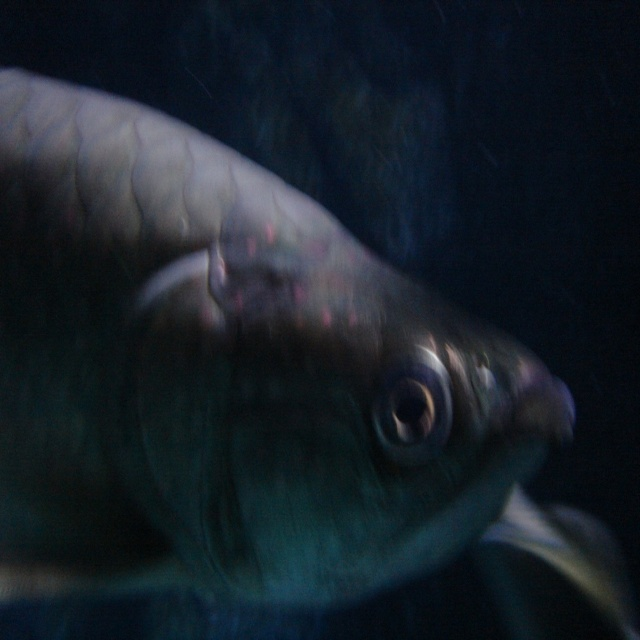Fish: (34, 61, 572, 640)
